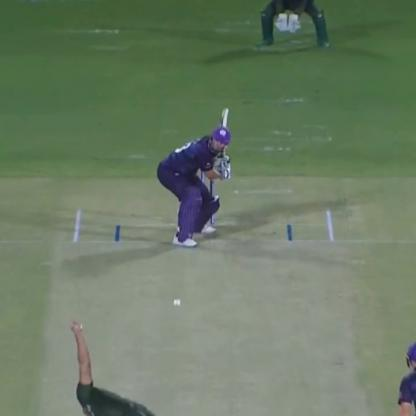ball: (168, 295, 187, 311)
bat: (209, 105, 233, 149)
pitch: (38, 213, 364, 416)
